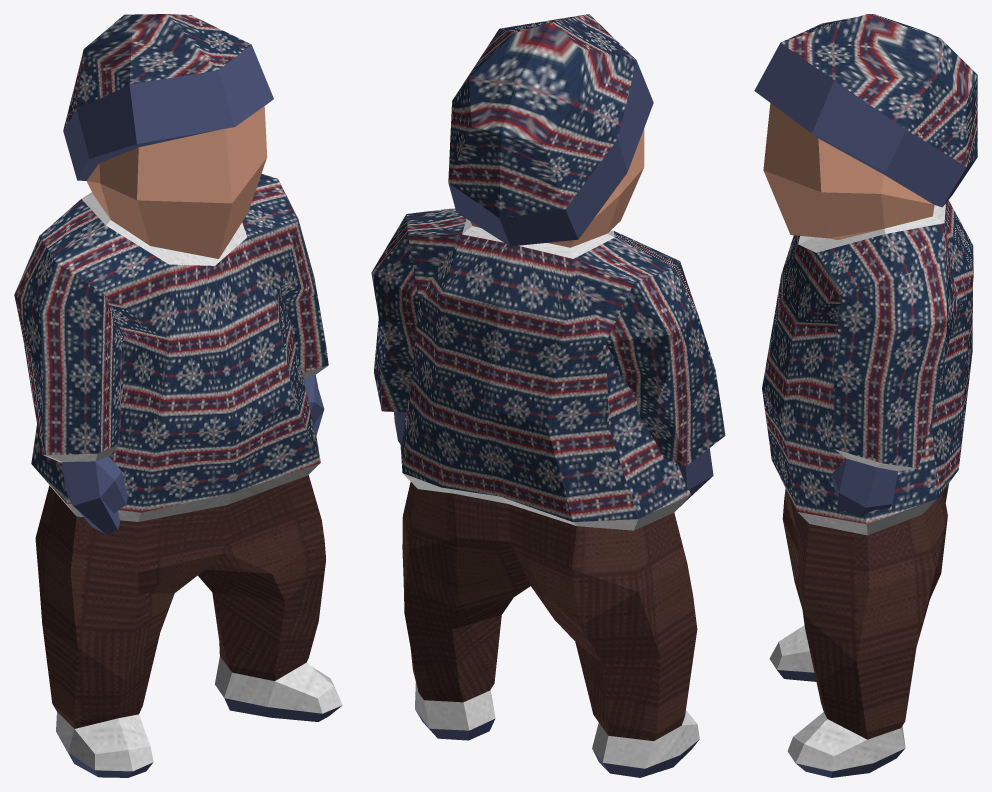
Rendered from AutumnBaby.010.glb.
3 renders of one model, left to right at view 1: azimuth 30°, elevation 25°; view 2: azimuth 150°, elevation 25°; view 3: azimuth 270°, elevation 25°, orthographic. The views are drawn at different scales.
Parts seen in each view (by area): view 1: AutumnBaby.010; view 2: AutumnBaby.010; view 3: AutumnBaby.010.
Boxes of the visible parts, x1,y1,x2,y2 form: AutumnBaby.010: (14,14,342,777); AutumnBaby.010: (371,14,725,777); AutumnBaby.010: (754,14,977,777).
Size of the model in its own units: 0.2806 by 0.6142 by 0.1777.
1 material, 1 textured.
